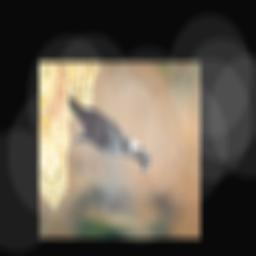Crow: (59, 88, 154, 179)
